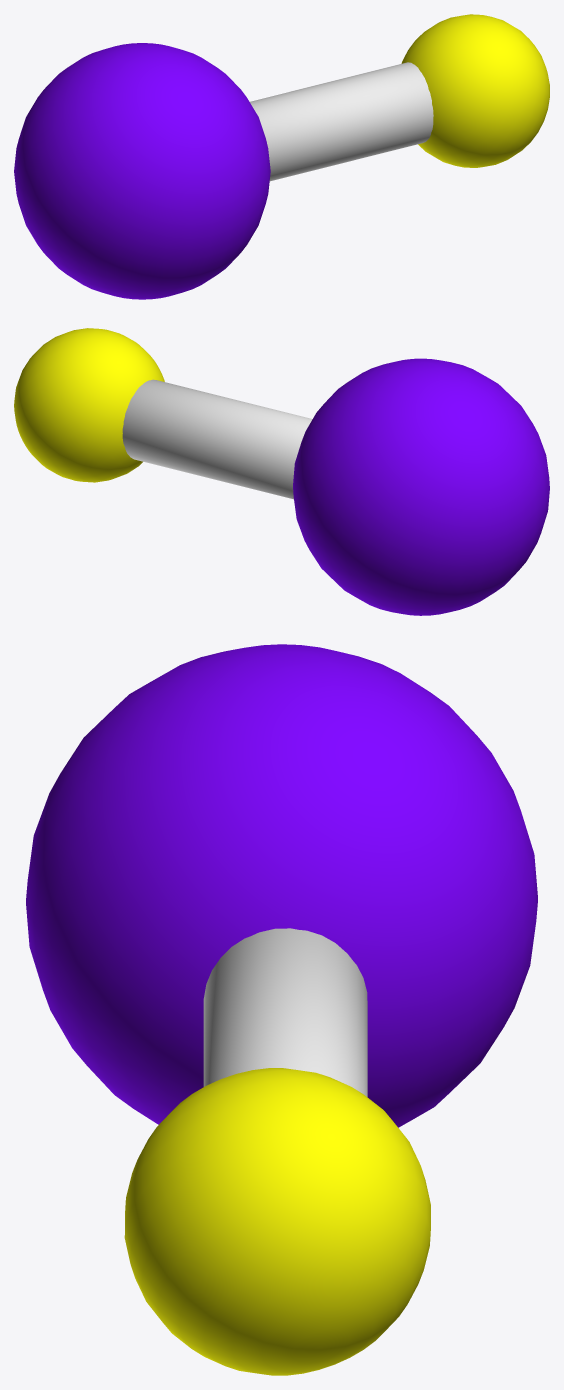
The model's file is NaCl.fbx.
The picture shows the model from 3 angles, top to bottom: view 1: azimuth 30°, elevation 25°; view 2: azimuth 150°, elevation 25°; view 3: azimuth 270°, elevation 25°; orthographic projection. The views are drawn at different scales.
Parts seen in each view (by area): view 1: 구체, 구체.003, 실린더.003; view 2: 구체, 구체.003, 실린더.003; view 3: 구체, 구체.003, 실린더.003.
Part boxes in pixels (box(x1,y1,x2,y2)): 구체: box(14, 43, 270, 299); 구체.003: box(401, 14, 549, 167); 실린더.003: box(250, 62, 433, 181); 구체: box(293, 358, 549, 615); 구체.003: box(14, 328, 164, 482); 실린더.003: box(122, 379, 312, 499); 구체: box(26, 644, 537, 1127); 구체.003: box(124, 1068, 430, 1375); 실린더.003: box(203, 928, 367, 1096).
Size of the model in its own units: 570 by 250 by 249.
